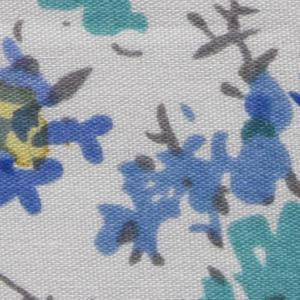Oil Stain: (1, 81, 77, 175)
